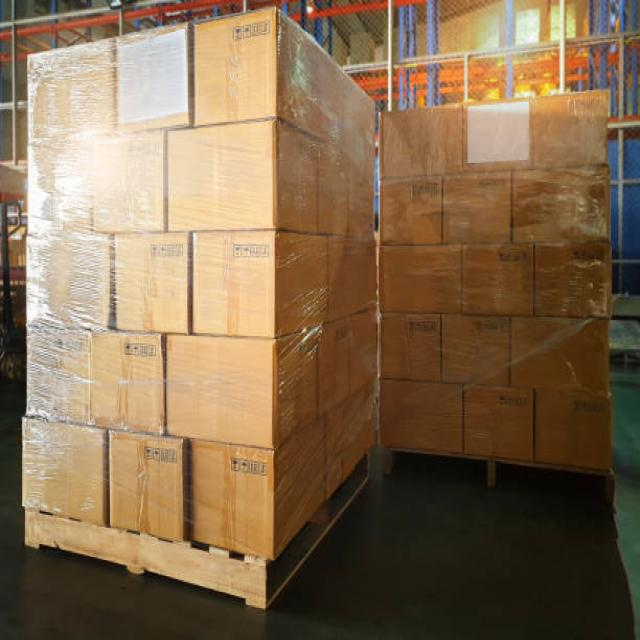Wooden-Pallets: (15, 429, 381, 628), (378, 435, 617, 518)
